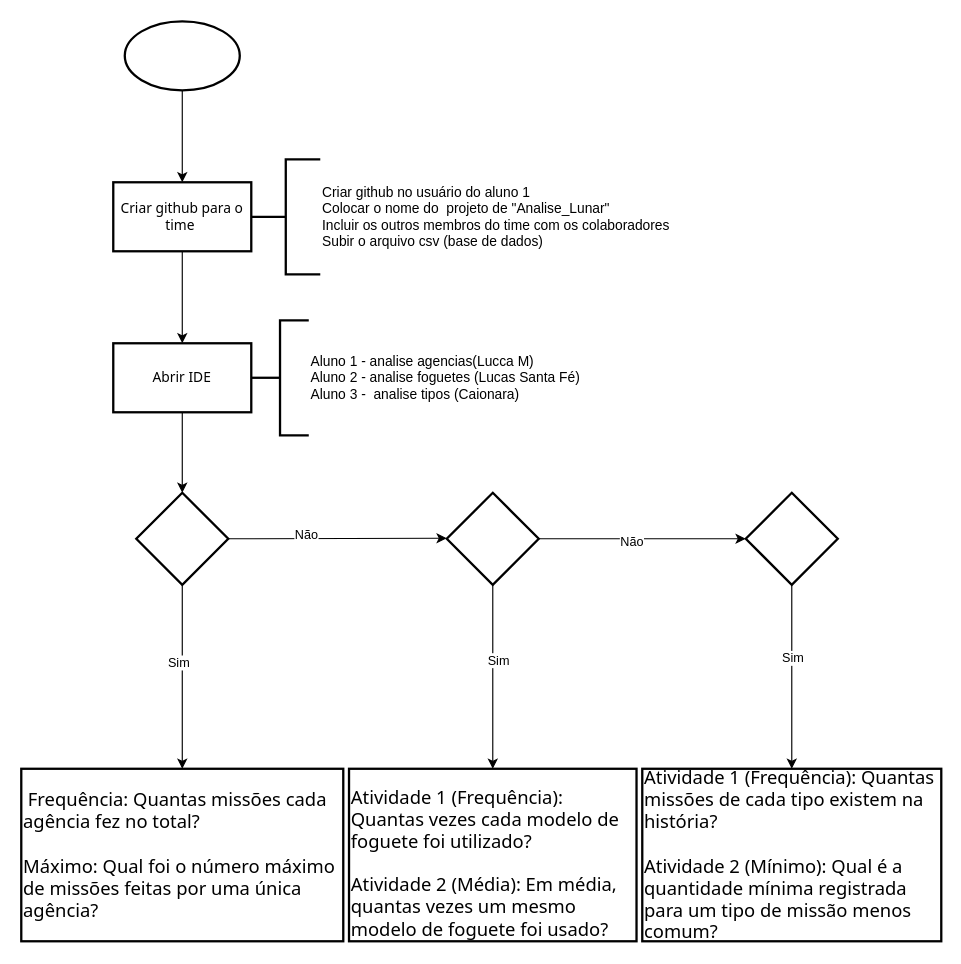
The diagram is 961 pixels wide and 964 high, and some of its shapes have lost their labels. The centre of each missing label's shape, as x and y in pixels:
"Aluno 1" goes at [182,538].
"Aluno 2" goes at [492,538].
"Aluno 3" goes at [791,538].
"Inicio do projeto" goes at [181,55].
